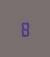eight: (19, 20, 29, 36)
